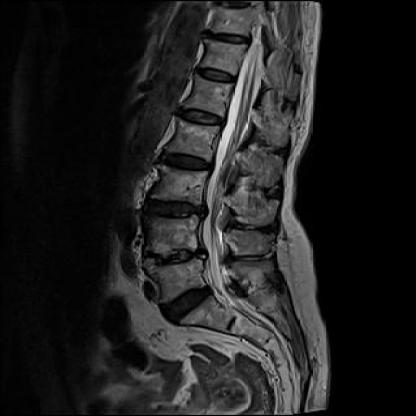Annular Tearrotation: (157, 284, 217, 324), (146, 245, 204, 269)
Disc Bulgerotation: (156, 285, 217, 324), (147, 245, 205, 269), (160, 150, 214, 174), (178, 107, 224, 129)
